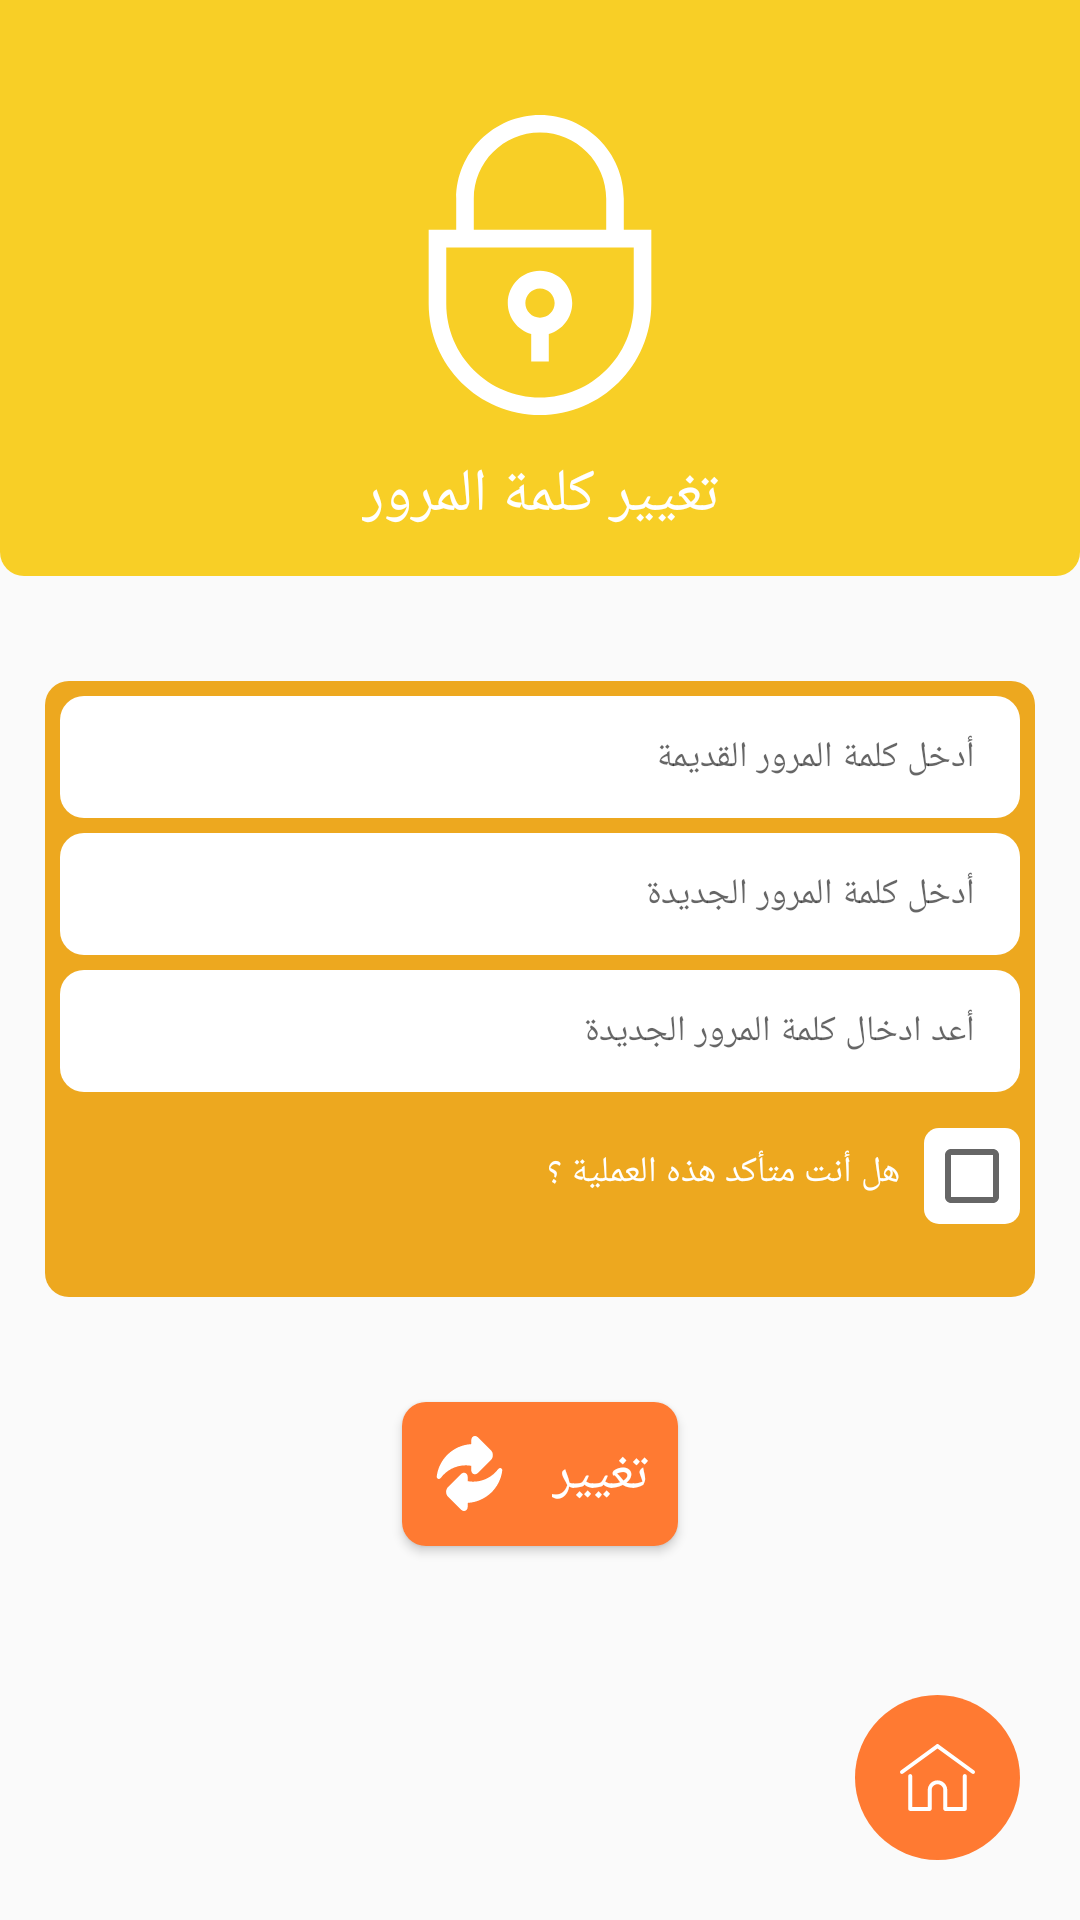

Icon click points for this 1080px x 1920px phone screenshot, format [x,y]:
biglock: [540,265]
home: [937,1777]
